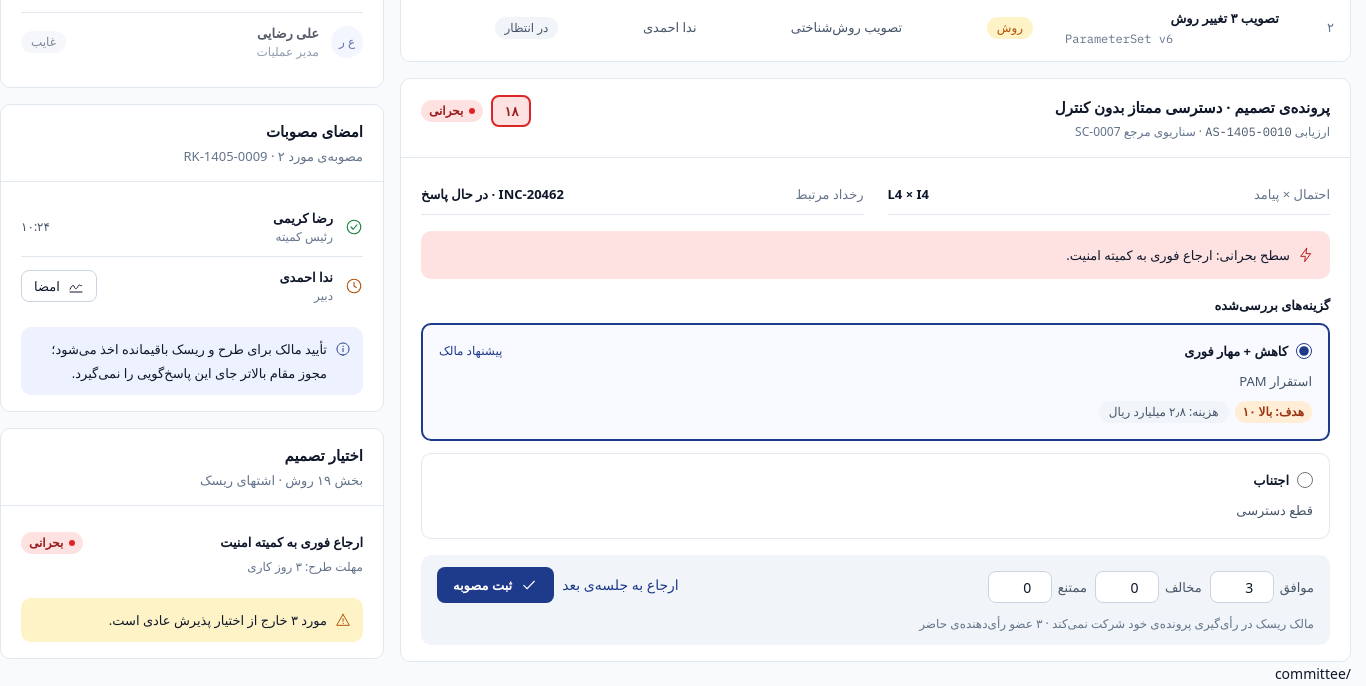
Test: CommitteePage › defers with a reason and signs a resolution
Later steps or results of the test are not shown.
(page scrolled)
Click the button "ارجاع به جلسه‌ی بعد" at coordinates (620, 585), box x1=562 y1=573 x2=679 y2=597
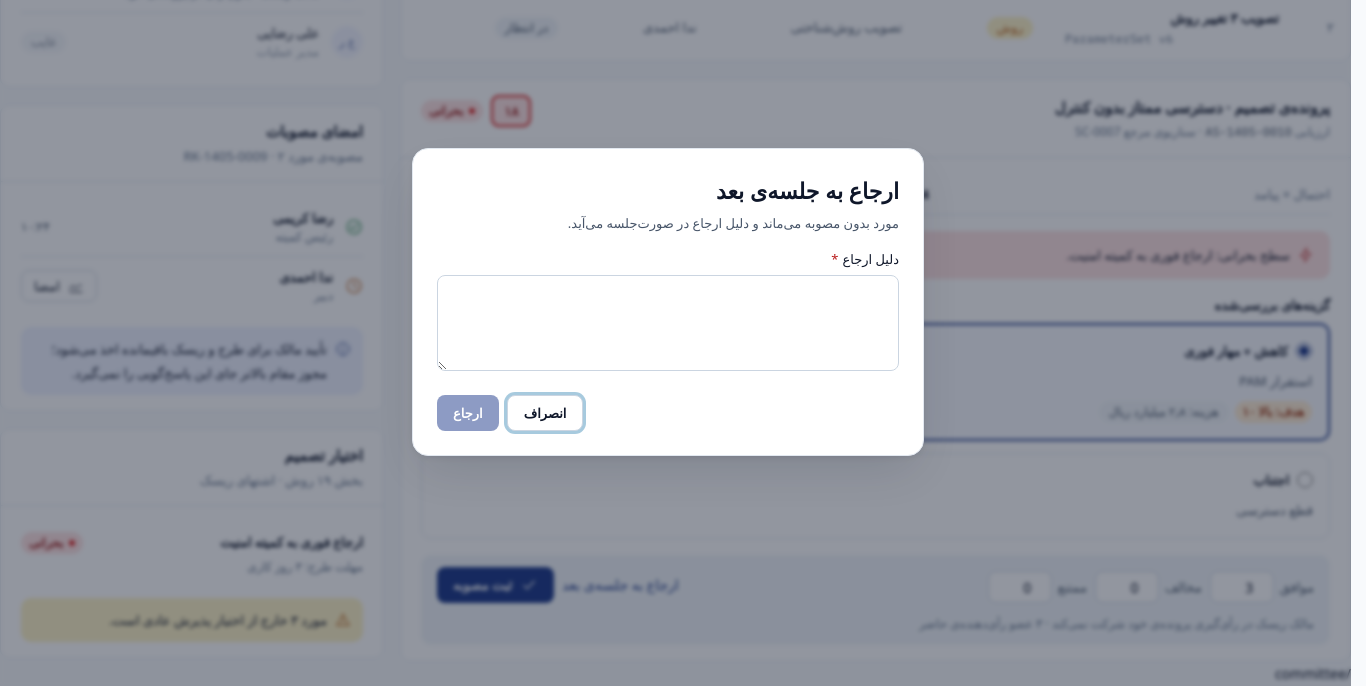
Result: the button "ارجاع" is disabled at x1=437 y1=395 x2=499 y2=431
